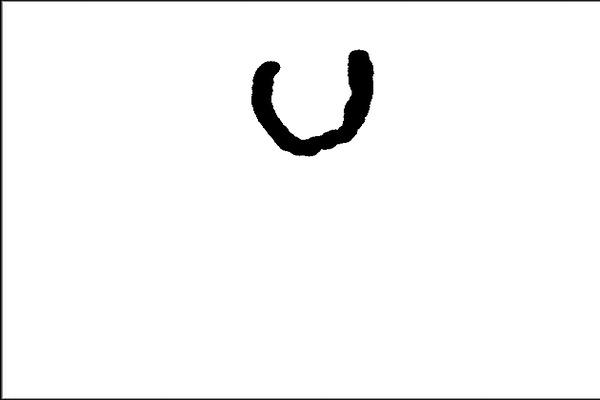U: (241, 38, 380, 159)
